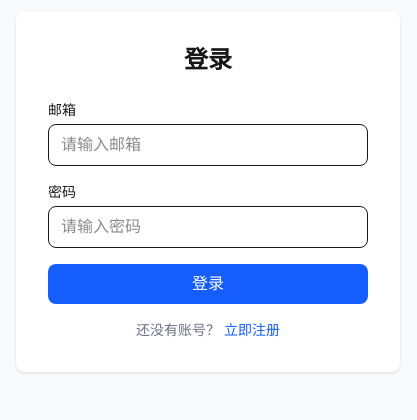
Test case: LoginPage › shows error message on failed login
This screenshot has width=417, height=420.
Type "test@test.com" into the field with placeholder "请输入邮箱". click: (208, 145)
box: [48,124,368,166]
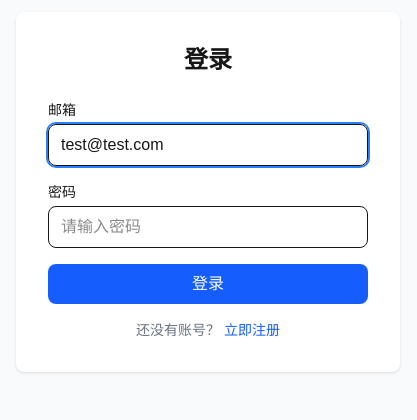
Type "wrong" into the password field with placeholder "请输入密码". click: (208, 227)
box: [48,206,368,248]
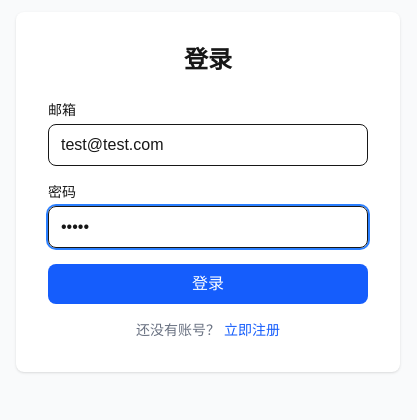
Click the button "登录". click: (208, 284)
box: [48,264,368,304]
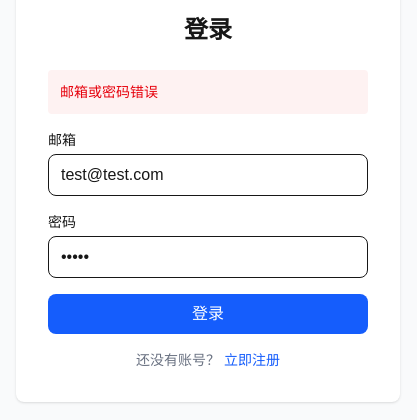
Now the text "邮箱或密码错误" is shown, box [48,70,368,114]
